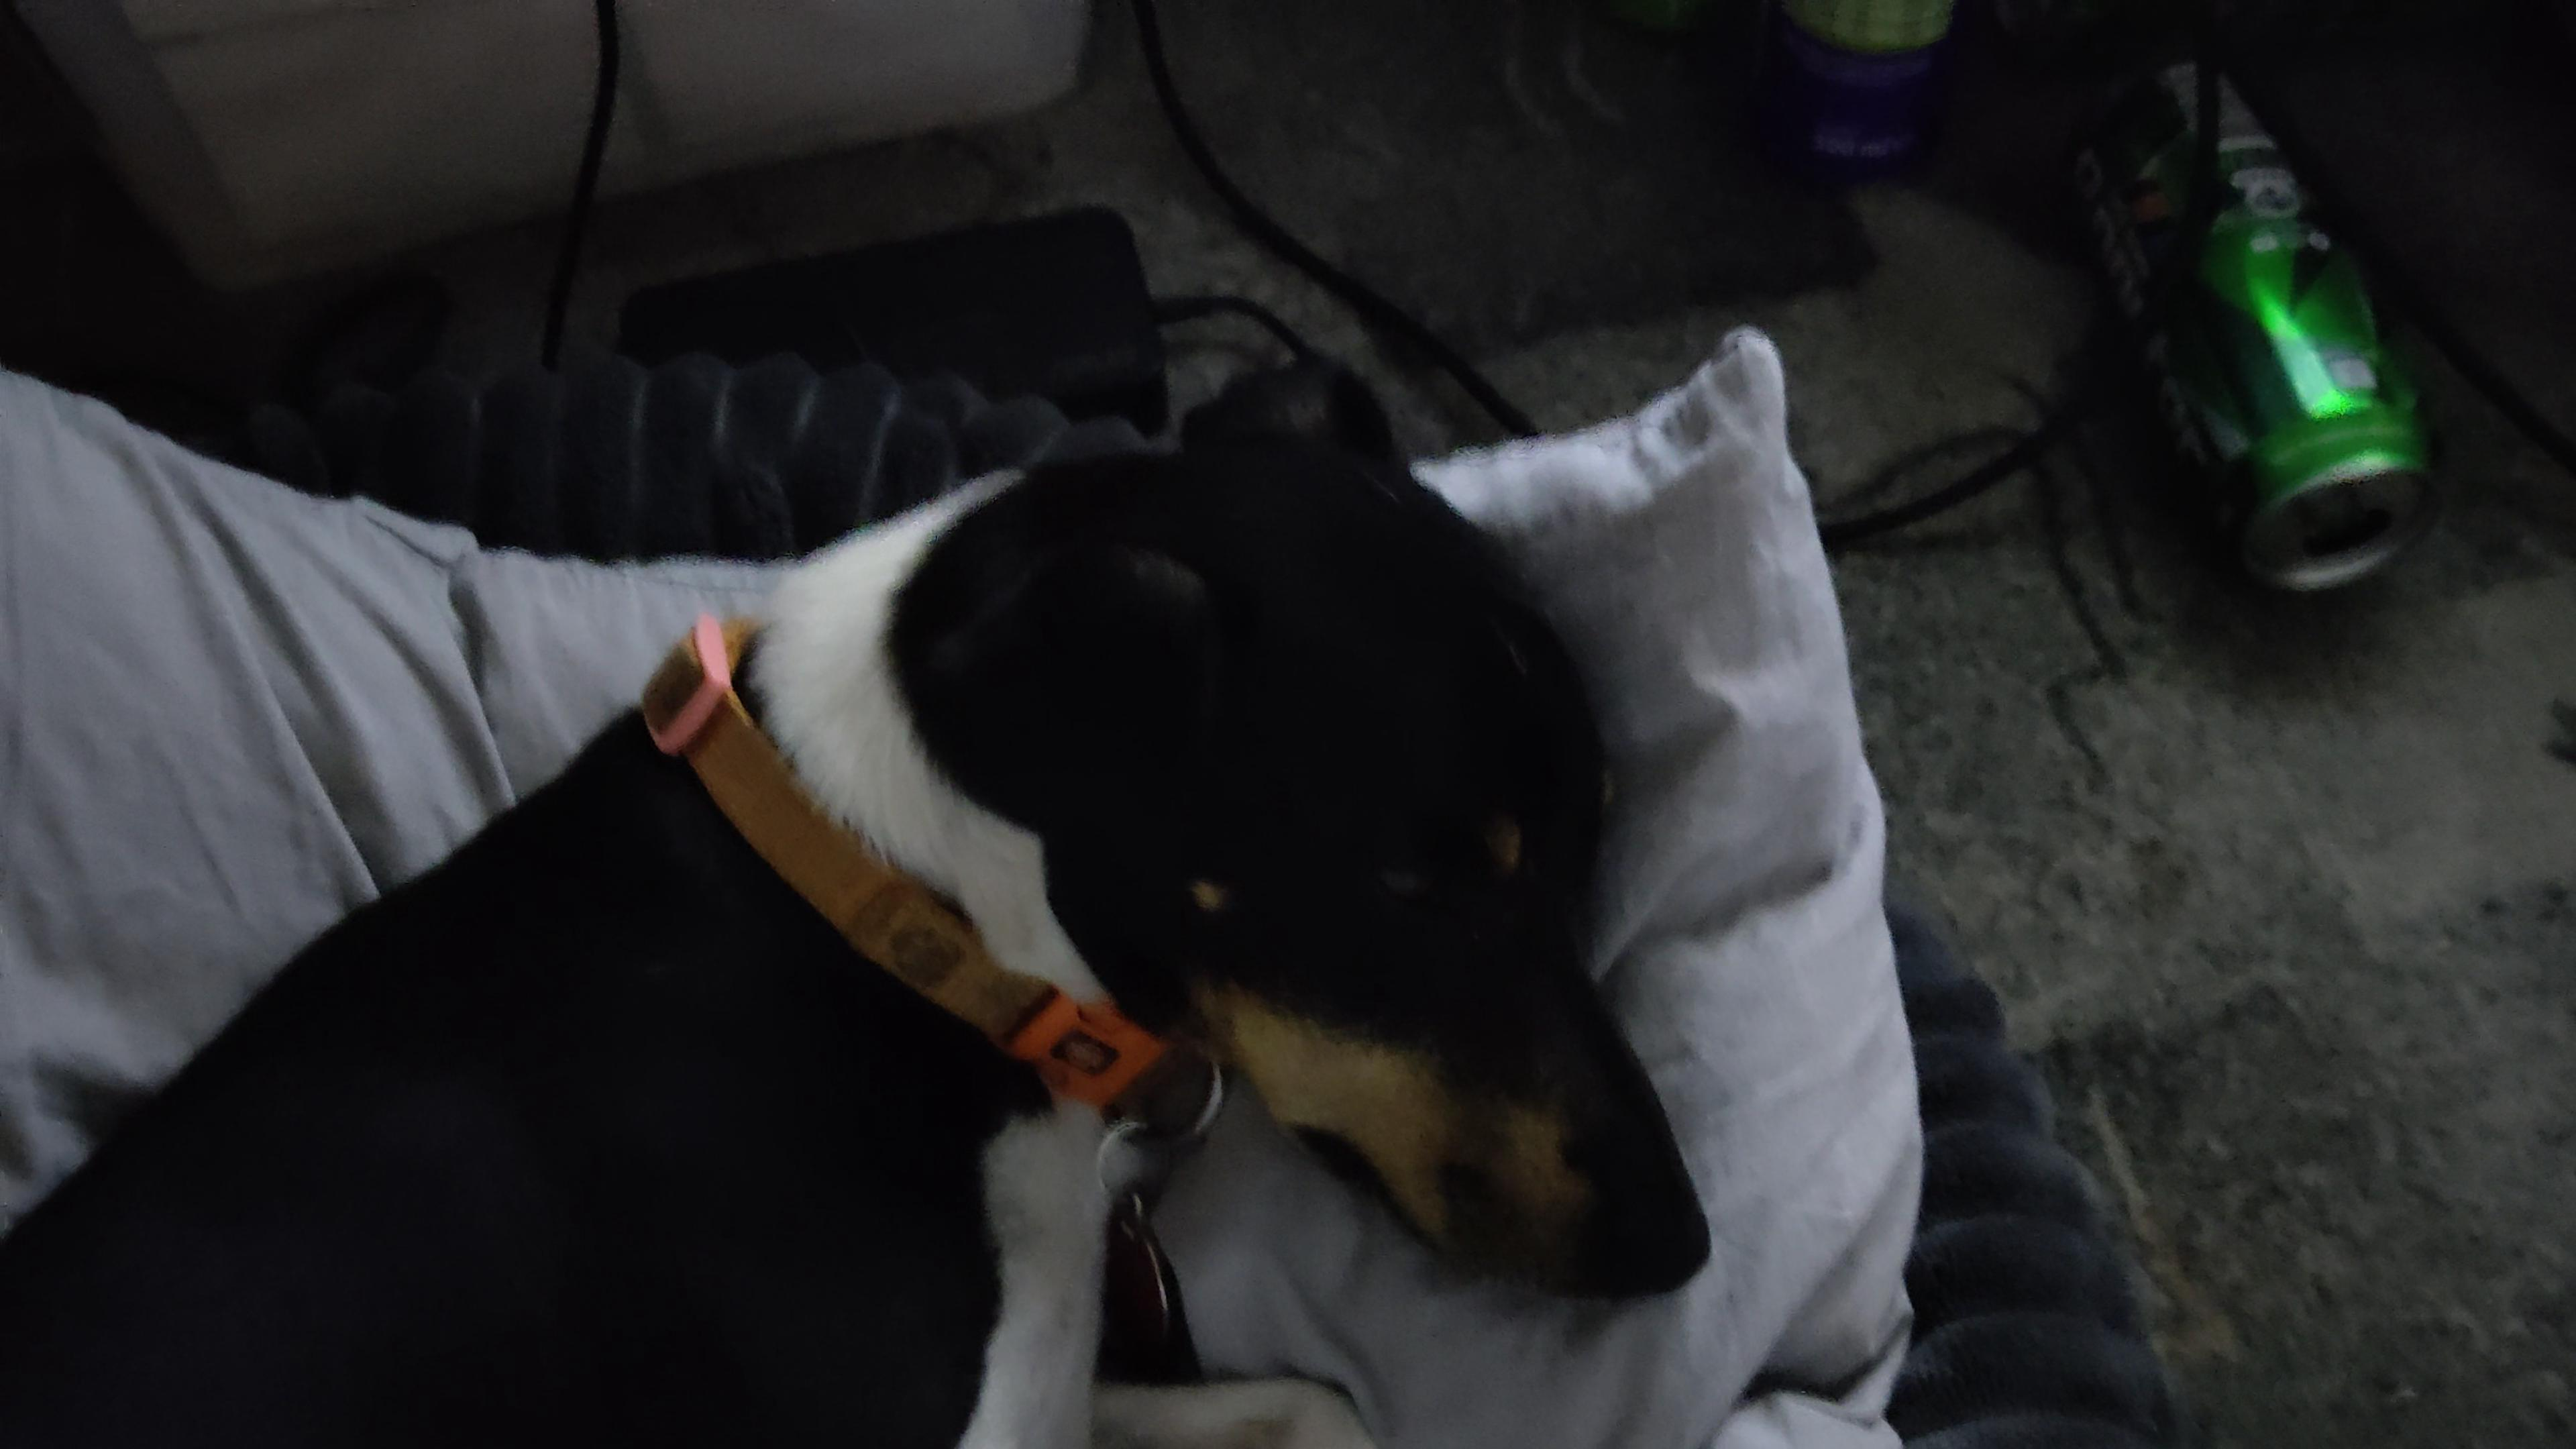Dog: (0, 345, 1737, 1449)
